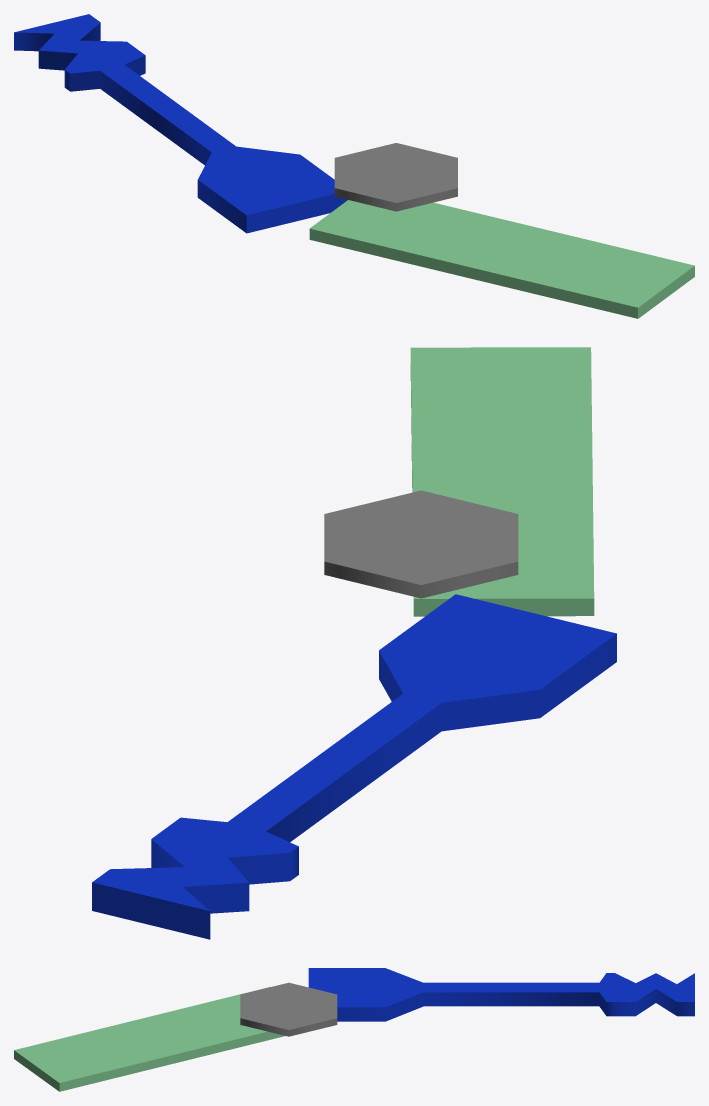
Rendered from Key.fbx.
The picture shows the model from 3 angles, top to bottom: view 1: azimuth 30°, elevation 25°; view 2: azimuth 150°, elevation 25°; view 3: azimuth 270°, elevation 25°; orthographic projection. The views are drawn at different scales.
Visible parts, largest first — view 1: Box001; view 2: Box001; view 3: Box001.
Part boxes in pixels (left/top/right/bottom): Box001: left=14, top=14, right=694, bottom=318; Box001: left=92, top=347, right=616, bottom=939; Box001: left=14, top=968, right=694, bottom=1091.
Bounding box in the file's own units: 54.19 × 6.5 × 140.
